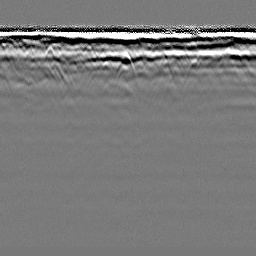cavity: (113, 50, 138, 81)
